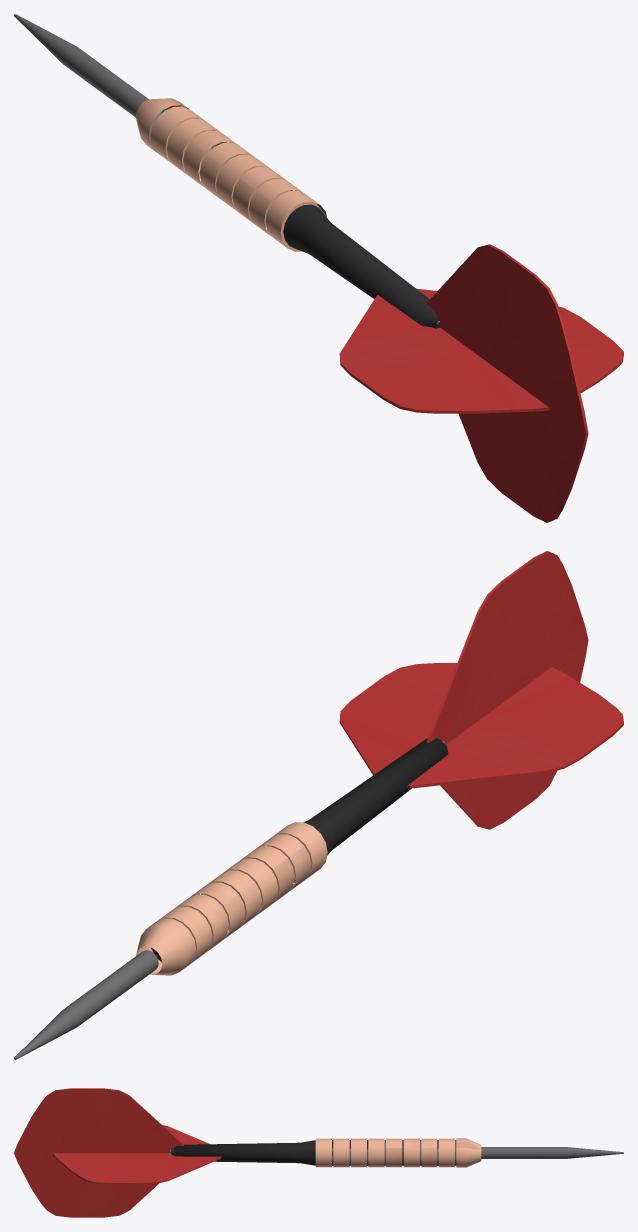
Rendered from Red Arrow.fbx.
3 views of the same model, one above another, from view 1: azimuth 30°, elevation 25°; view 2: azimuth 150°, elevation 25°; view 3: azimuth 270°, elevation 25° (orthographic). The views are drawn at different scales.
Visible parts, largest first — view 1: wing.007, wing.004, wing.003, wing.005; view 2: wing.007, wing.004, wing.003, wing.005; view 3: wing.007, wing.004, wing.003, wing.005.
Boxes of the visible parts, x1,y1,x2,y2 form: wing.007: (339, 244, 623, 522); wing.004: (135, 98, 326, 251); wing.003: (165, 117, 622, 522); wing.005: (14, 14, 148, 117); wing.007: (339, 551, 623, 829); wing.004: (136, 822, 327, 975); wing.003: (155, 737, 448, 957); wing.005: (14, 950, 158, 1059); wing.007: (14, 1088, 221, 1217); wing.004: (315, 1138, 481, 1167); wing.003: (14, 1096, 456, 1180); wing.005: (481, 1147, 623, 1158).
Size of the model in its own units: 38.65 by 38.65 by 166.
